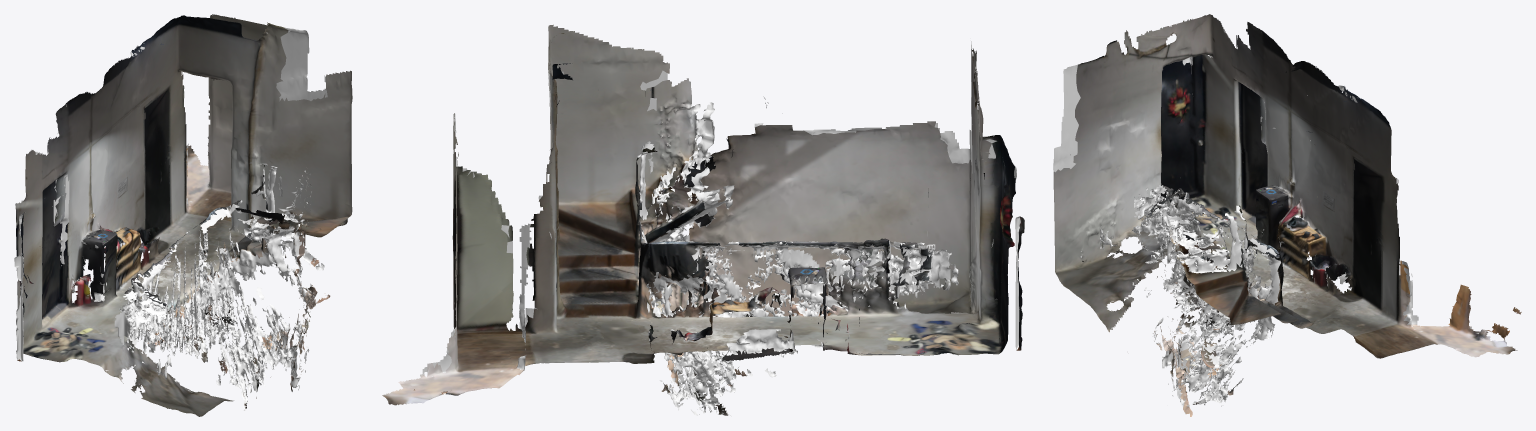
The picture shows the model from 3 angles, left to right: view 1: azimuth 30°, elevation 25°; view 2: azimuth 150°, elevation 25°; view 3: azimuth 270°, elevation 25°; orthographic projection. The views are drawn at different scales.
Visible parts, largest first — view 1: object 1, texture_0, texture_1, texture_3, texture_4, texture_5, texture_2; view 2: texture_3, texture_4, object 1, texture_1, texture_2, texture_5, texture_0; view 3: texture_2, texture_0, object 1, texture_4, texture_1, texture_5, texture_3.
Boxes of the visible parts, <box> form: object 1: <box>14,14,327,410</box>; texture_0: <box>55,29,267,403</box>; texture_1: <box>146,15,288,250</box>; texture_3: <box>192,70,352,408</box>; texture_4: <box>17,134,303,409</box>; texture_5: <box>82,15,315,392</box>; texture_2: <box>15,150,210,416</box>; texture_3: <box>548,24,730,415</box>; texture_4: <box>643,133,1002,394</box>; object 1: <box>420,41,1020,416</box>; texture_1: <box>382,33,627,405</box>; texture_2: <box>740,48,1024,355</box>; texture_5: <box>445,94,951,375</box>; texture_0: <box>546,59,991,414</box>; texture_2: <box>1053,14,1306,294</box>; texture_0: <box>1169,22,1386,403</box>; object 1: <box>1053,21,1492,413</box>; texture_4: <box>1075,27,1312,385</box>; texture_1: <box>1306,99,1521,358</box>; texture_5: <box>1070,93,1448,351</box>; texture_3: <box>1154,177,1324,416</box>.
Bounding box in the file's own units: 5.73 × 5 × 6.68.
7 materials, 6 textured.
